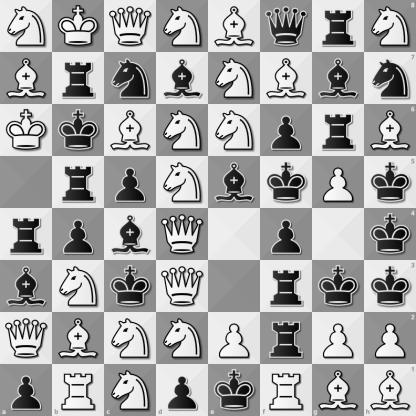B: (312, 364, 364, 416), (364, 104, 416, 156), (364, 364, 416, 416), (1, 53, 52, 104), (53, 313, 104, 364), (105, 105, 156, 156), (209, 1, 260, 52), (261, 53, 312, 104)
K: (1, 105, 52, 156), (53, 1, 104, 52)
N: (104, 364, 156, 416), (364, 0, 416, 52), (1, 1, 52, 52), (53, 261, 104, 312), (105, 313, 156, 364), (157, 1, 208, 52), (157, 105, 208, 156), (157, 157, 208, 208), (157, 313, 208, 364), (209, 53, 260, 104), (209, 105, 260, 156)
P: (364, 312, 416, 364), (209, 313, 260, 364), (313, 157, 364, 208), (313, 313, 364, 364)
Q: (1, 313, 52, 364), (105, 1, 156, 52), (157, 209, 208, 260), (157, 261, 208, 312)
R: (52, 364, 104, 416), (260, 364, 312, 416)
b: (1, 261, 52, 312), (105, 209, 156, 260), (157, 53, 208, 104), (209, 157, 260, 208), (313, 53, 364, 104)
board: (0, 0, 415, 415)
k: (364, 156, 416, 209), (364, 260, 416, 312), (209, 364, 260, 416), (364, 209, 416, 260), (53, 105, 104, 156), (105, 261, 156, 312), (261, 157, 312, 208), (313, 261, 364, 312)
n: (364, 52, 416, 104), (105, 53, 156, 104)
p: (156, 364, 209, 416), (0, 364, 52, 416), (53, 209, 104, 260), (105, 157, 156, 208), (261, 105, 312, 156), (261, 209, 312, 260)
q: (261, 1, 312, 52)
r: (1, 209, 52, 260), (53, 53, 104, 104), (53, 157, 104, 208), (261, 261, 312, 312), (261, 313, 312, 364), (313, 1, 364, 52), (313, 105, 364, 156)
